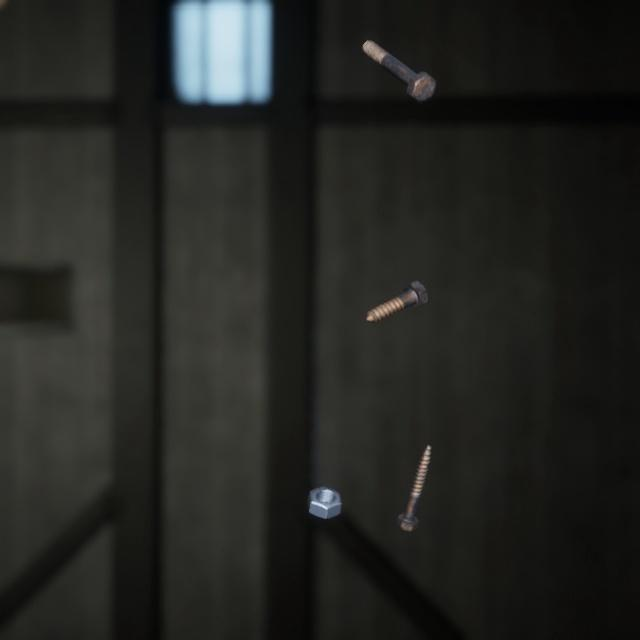bolt: (357, 26, 441, 97), (391, 420, 435, 515), (361, 259, 432, 311)
nut: (304, 461, 347, 501)
